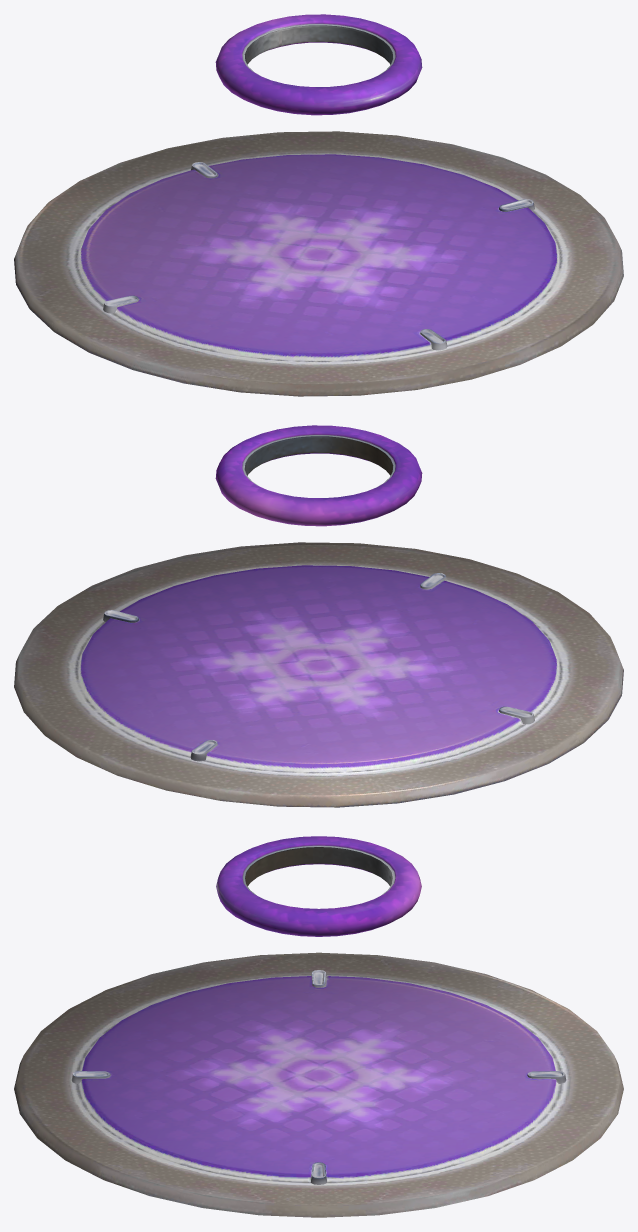
The model's file is pref_TPC_v2_NeutralScoreArea03_winter_purple_dead_lv1.fbx.
The picture shows the model from 3 angles, top to bottom: view 1: azimuth 30°, elevation 25°; view 2: azimuth 150°, elevation 25°; view 3: azimuth 270°, elevation 25°; orthographic projection.
Visible parts, largest first — view 1: sm_prop_platform06a_lv1, sm_prop_platform06b_lv1; view 2: sm_prop_platform06a_lv1, sm_prop_platform06b_lv1; view 3: sm_prop_platform06a_lv1, sm_prop_platform06b_lv1.
Part boxes in pixels (bbox=[...]): sm_prop_platform06a_lv1: bbox=[14, 131, 623, 396]; sm_prop_platform06b_lv1: bbox=[215, 14, 422, 115]; sm_prop_platform06a_lv1: bbox=[14, 542, 623, 807]; sm_prop_platform06b_lv1: bbox=[215, 425, 422, 526]; sm_prop_platform06a_lv1: bbox=[14, 952, 623, 1217]; sm_prop_platform06b_lv1: bbox=[216, 836, 421, 936].
Size of the model in its own units: 7.46 by 2.88 by 7.46.
